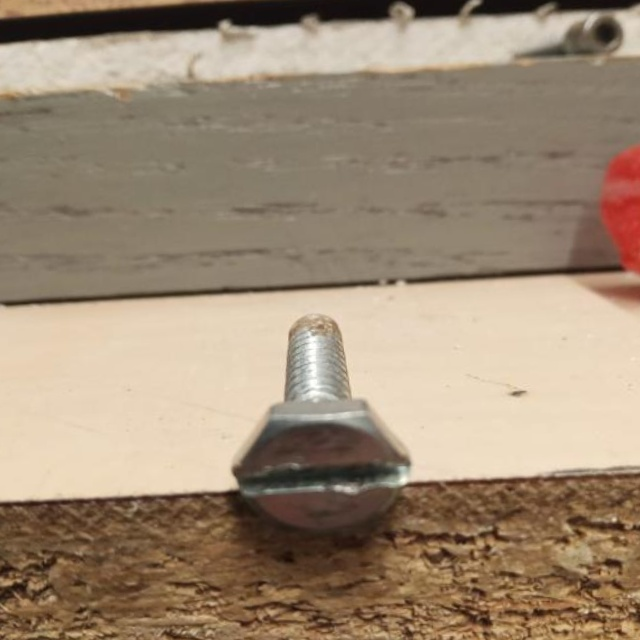duz: (225, 396, 418, 538)
